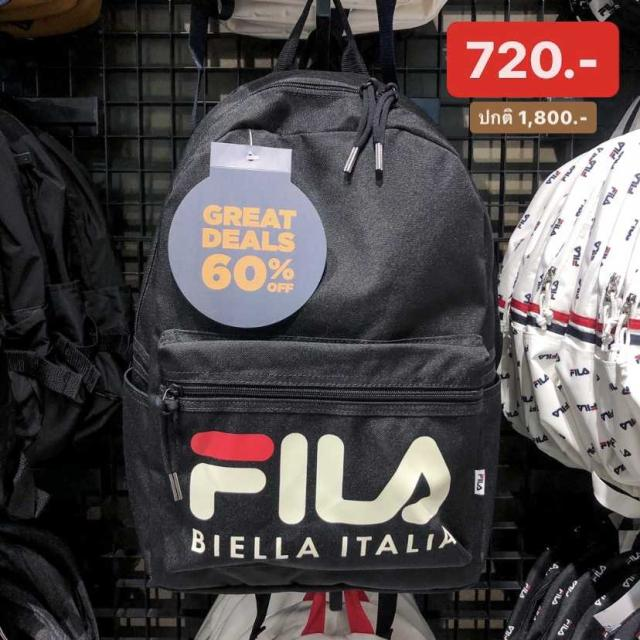handbag: (122, 70, 496, 595)
